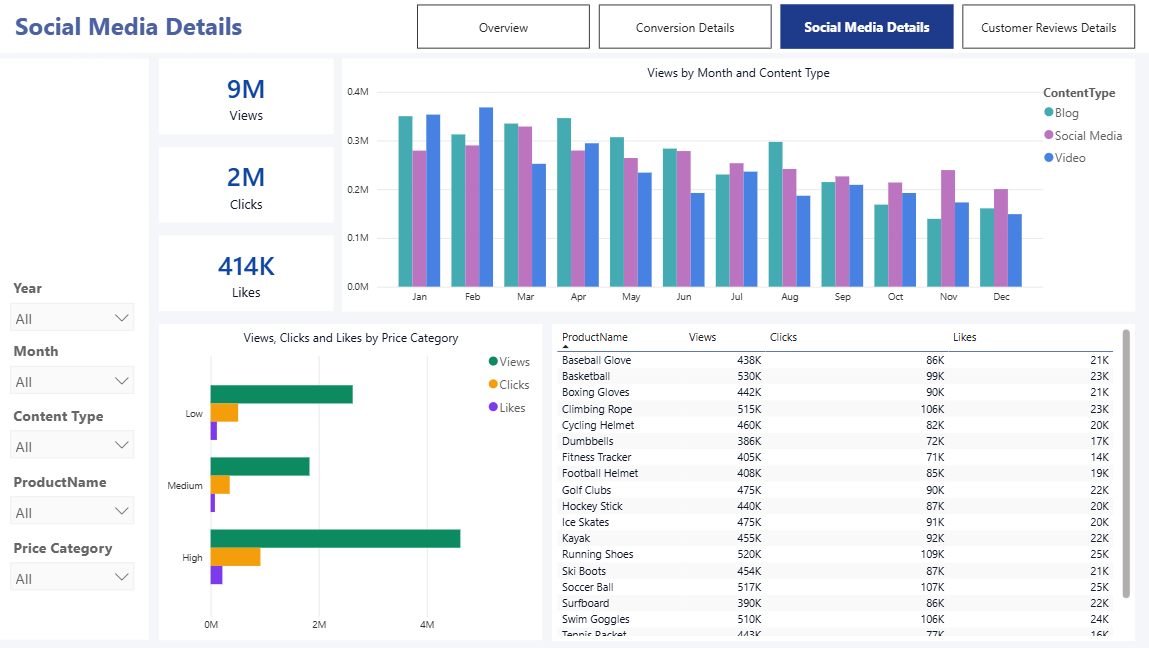

What the dashboard file says about the page in this screenshot:
{"tool":"powerbi","page":{"name":"Social Media Details","canvas":[1280,720],"ordinal":2},"visuals":[{"type":"textbox","box":[0,0,1280,58.9],"z":0},{"type":"cardVisual","title":"Coversion Rate","fields":{"Data":["_Calclations.Views"]},"box":[179.7,65.2,194.1,84],"z":1000},{"type":"cardVisual","title":"Coversion Rate","fields":{"Data":["_Calclations.Clicks"]},"box":[179.7,163.8,194.1,84.3],"z":2000},{"type":"cardVisual","title":"Coversion Rate","fields":{"Data":["_Calclations.Likes"]},"box":[179.7,262.5,194.1,84.3],"z":3000},{"type":"clusteredColumnChart","title":"Views by Month and Content Type","fields":{"Series":["fact_engagement_data.ContentType"],"Y":["_Calclations.Views"],"Category":["Calendar.MonthNameShort"]},"box":[383.3,65.2,881.2,281.5],"z":4000},{"type":"shape","box":[0,65.2,168.6,645.8],"z":5000},{"type":"slicer","fields":{"Values":["dim_products.ProductName"]},"box":[4.5,518.4,157.5,72.7],"z":6000},{"type":"slicer","fields":{"Values":["dim_products.PriceCategory"]},"box":[4.5,591.1,157.5,72.7],"z":7000},{"type":"clusteredBarChart","title":"Views, Clicks and Likes by Price Category","fields":{"Y":["_Calclations.Views","_Calclations.Clicks","_Calclations.Likes"],"Category":["dim_products.PriceCategory"]},"box":[179.7,359.5,426.3,351.5],"z":8000},{"type":"tableEx","fields":{"Values":["dim_products.ProductName","_Calclations.Views","_Calclations.Clicks","_Calclations.Likes"]},"box":[617.2,359.5,647.4,351.5],"z":9000},{"type":"slicer","fields":{"Values":["fact_engagement_data.ContentType"]},"box":[4.5,445.7,157.5,72.7],"z":10000},{"type":"pageNavigator","box":[466,4.8,800.1,49.3],"z":11000},{"type":"slicer","fields":{"Values":["Calendar.Year"]},"box":[4.5,303.4,157.5,72.7],"z":12000},{"type":"slicer","fields":{"Values":["Calendar.MonthNameLong"]},"box":[4.5,372.5,157.5,72.7],"z":13000}]}

Visuals, with their boxes in screenshot pixels (x1, y1, x2, y2), scaled from the page's 1280x720 canvas onto the 1149x648 screenshot:
textbox: (left=0, top=0, right=1148, bottom=53)
"Coversion Rate" cardVisual: (left=161, top=59, right=336, bottom=134)
"Coversion Rate" cardVisual: (left=161, top=147, right=336, bottom=223)
"Coversion Rate" cardVisual: (left=161, top=236, right=336, bottom=312)
"Views by Month and Content Type" clusteredColumnChart: (left=344, top=59, right=1135, bottom=312)
shape: (left=0, top=59, right=151, bottom=640)
slicer - dim_products.ProductName: (left=4, top=467, right=145, bottom=532)
slicer - dim_products.PriceCategory: (left=4, top=532, right=145, bottom=597)
"Views, Clicks and Likes by Price Category" clusteredBarChart: (left=161, top=324, right=544, bottom=640)
tableEx - dim_products.ProductName x _Calclations.Views: (left=554, top=324, right=1135, bottom=640)
slicer - fact_engagement_data.ContentType: (left=4, top=401, right=145, bottom=467)
pageNavigator: (left=418, top=4, right=1137, bottom=49)
slicer - Calendar.Year: (left=4, top=273, right=145, bottom=338)
slicer - Calendar.MonthNameLong: (left=4, top=335, right=145, bottom=401)
